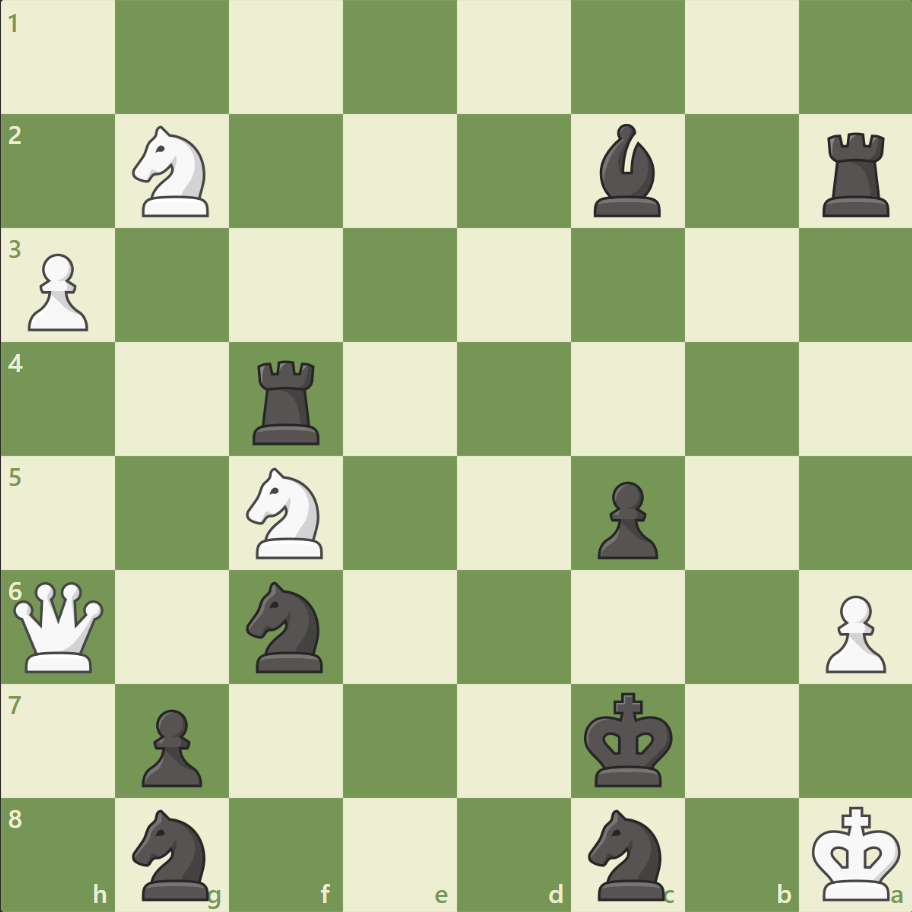K: (806, 798, 906, 906)
N: (124, 121, 222, 223), (238, 461, 335, 564)
P: (20, 246, 95, 337), (815, 586, 889, 677)
Q: (10, 576, 109, 676)
b: (585, 120, 669, 222)
k: (579, 685, 679, 793)
n: (124, 802, 222, 904), (579, 802, 676, 904), (238, 575, 335, 677)
p: (133, 700, 208, 791), (588, 473, 662, 564)
r: (246, 352, 329, 449), (814, 125, 897, 222)
